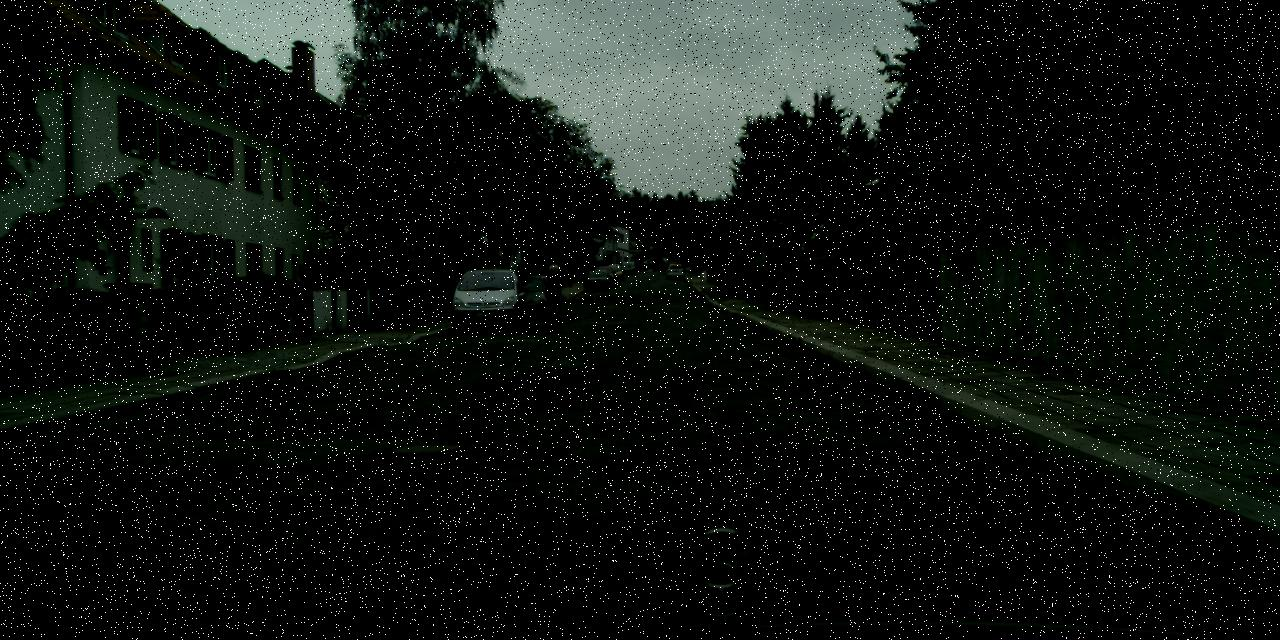ped: (540, 264, 568, 332)
